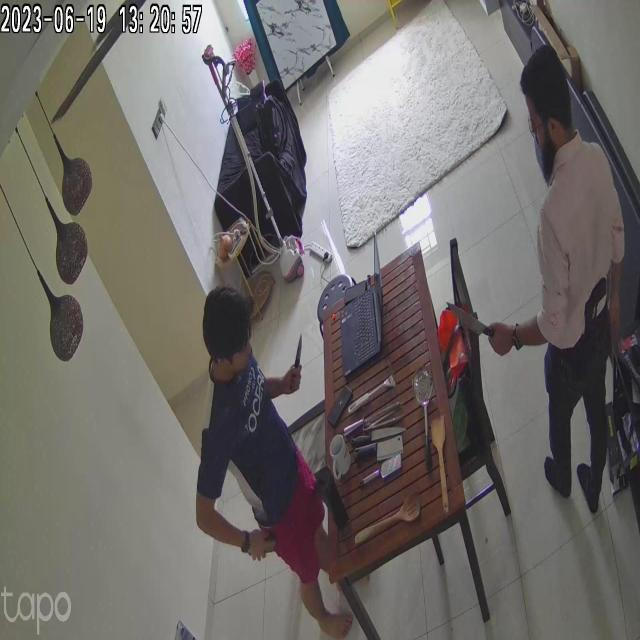Gun: (584, 264, 614, 330)
Knife: (447, 300, 499, 342), (286, 332, 312, 382)
